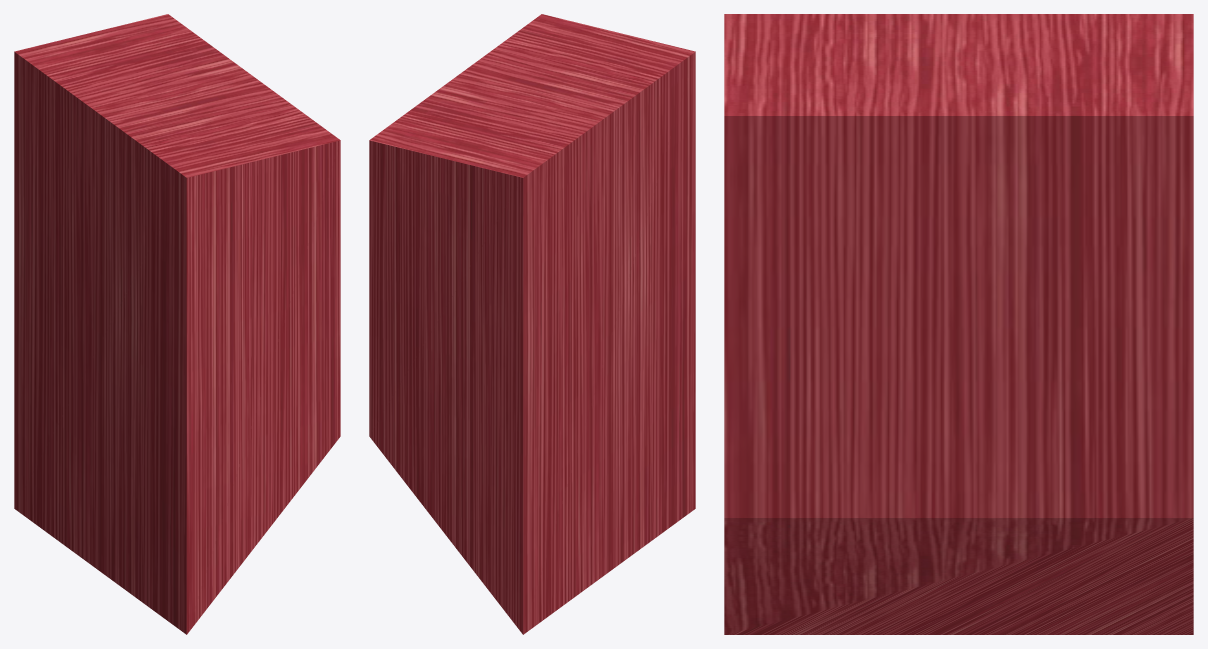
The picture shows the model from 3 angles, left to right: view 1: azimuth 30°, elevation 25°; view 2: azimuth 150°, elevation 25°; view 3: azimuth 270°, elevation 25°; orthographic projection. The views are drawn at different scales.
Parts seen in each view (by area): view 1: base1.001; view 2: base1.001; view 3: base1.001.
Boxes of the visible parts, left/top/right/bottom form: base1.001: left=14, top=14, right=340, bottom=634; base1.001: left=369, top=14, right=695, bottom=634; base1.001: left=724, top=14, right=1193, bottom=634.
Size of the model in its own units: 0.7896 by 2.24 by 1.53.
Materials: 1 (1 with a texture image).
